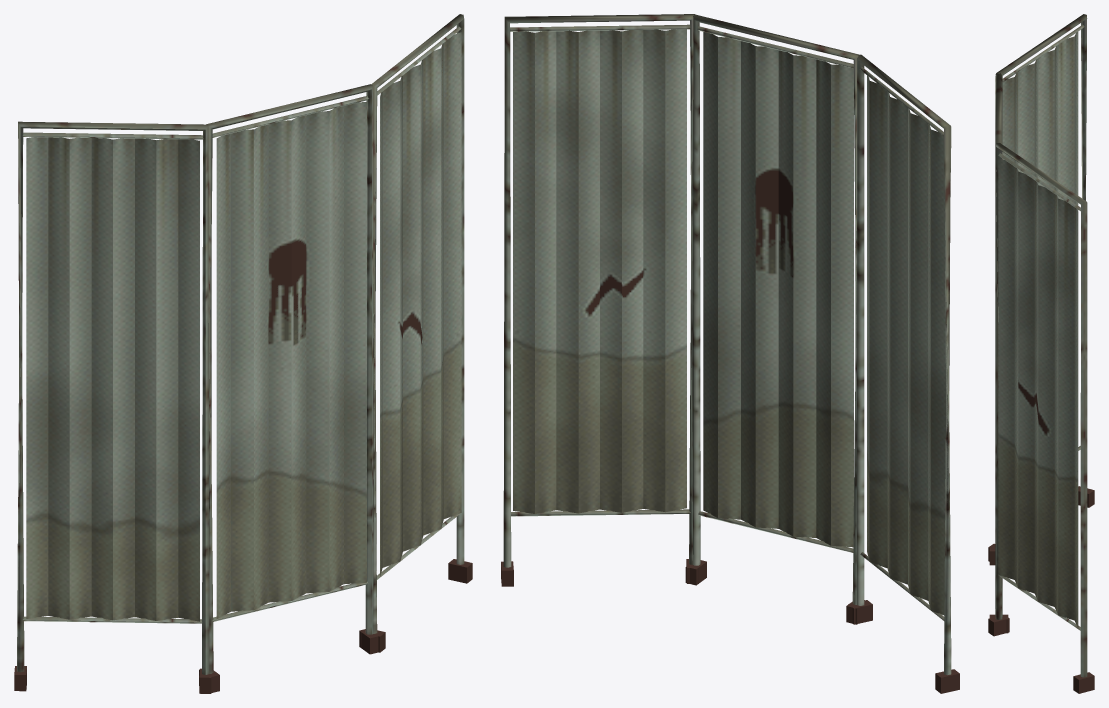
The model's file is folding_screen.obj.
3 renders of one model, left to right at view 1: azimuth 30°, elevation 25°; view 2: azimuth 150°, elevation 25°; view 3: azimuth 270°, elevation 25°, orthographic. The views are drawn at different scales.
Visible parts, largest first — view 1: folding_screen; view 2: folding_screen; view 3: folding_screen.
Boxes of the visible parts, x1,y1,x2,y2 form: folding_screen: [14, 14, 472, 693]; folding_screen: [501, 14, 959, 693]; folding_screen: [988, 14, 1094, 693].
Bounding box in the file's own units: 1.49 × 1.75 × 0.3445.
Materials: 1 (1 with a texture image).
